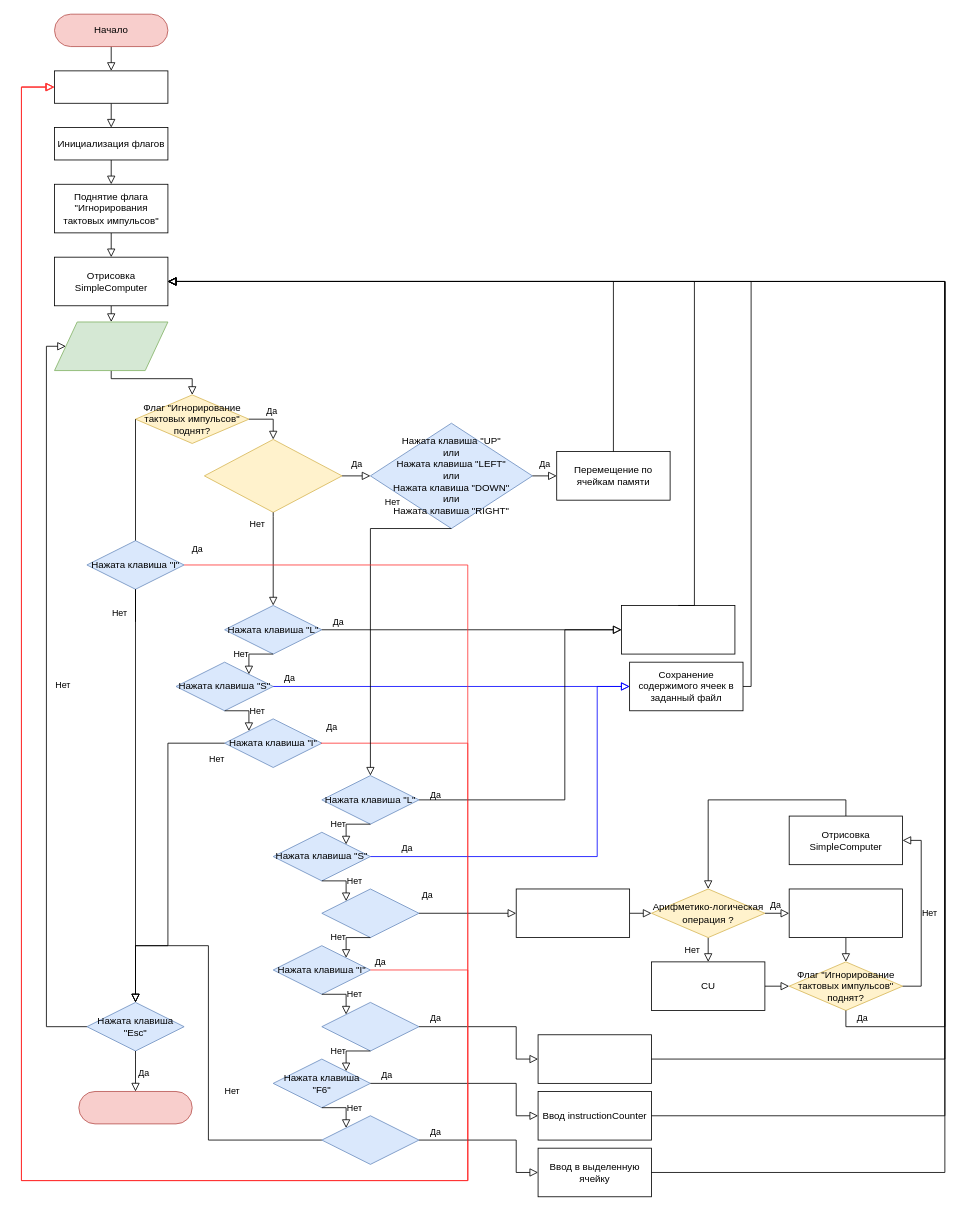
This 967x1211 diagram has some shape labels left out. The shapes that lost their labels are listed below. From the top down, each one's centre as x and y in pixels, then its label:
point 111,86: Инициализация памяти
point 111,346: Ввод клавиши
point 273,475: Флаги "Деление на ноль", "Выход на пределы", "Некорректная команда" опущены
point 678,629: Загрузка в память компьютера данных из заданного файла
point 370,913: Нажата клавиша "R"
point 572,913: Опускание флага "Игнорирование тактовых импульсов"
point 845,913: ALU
point 370,1026: Нажата клавиша "F5"
point 594,1058: Ввод значения аккумулятора
point 135,1107: Конец
point 370,1139: Нажата клавиша "Enter"
